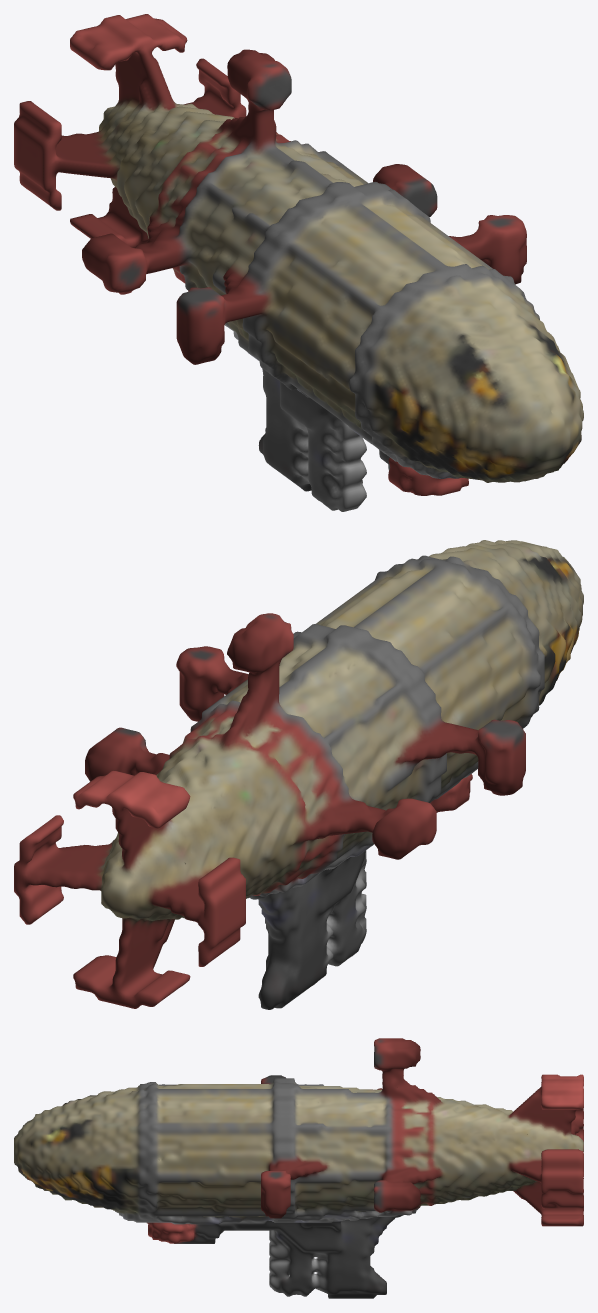
File: zep.glb
The picture shows the model from 3 angles, top to bottom: view 1: azimuth 30°, elevation 25°; view 2: azimuth 150°, elevation 25°; view 3: azimuth 270°, elevation 25°; orthographic projection. The views are drawn at different scales.
Parts seen in each view (by area): view 1: zep; view 2: zep; view 3: zep.
Part boxes in pixels (x1,y1,x2,y2): zep: (14, 14, 583, 511); zep: (14, 540, 583, 1009); zep: (14, 1038, 583, 1298).
Size of the model in its own units: 4.99 by 5.62 by 11.31.
